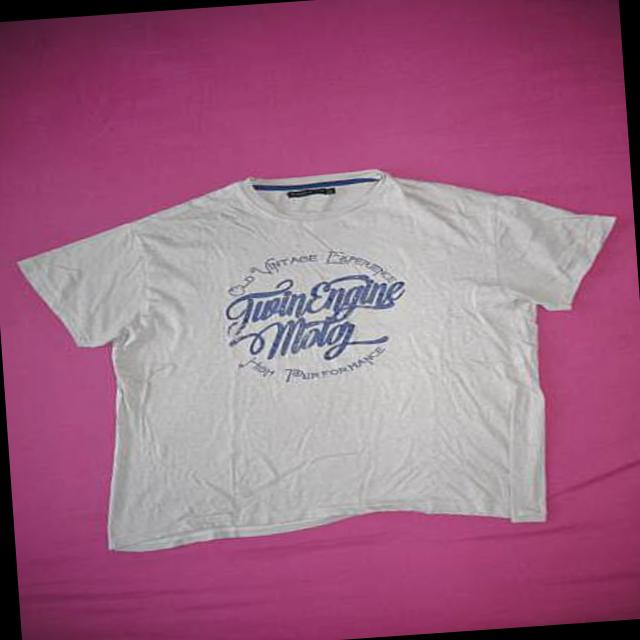T_SHIRT: (9, 142, 640, 564)
